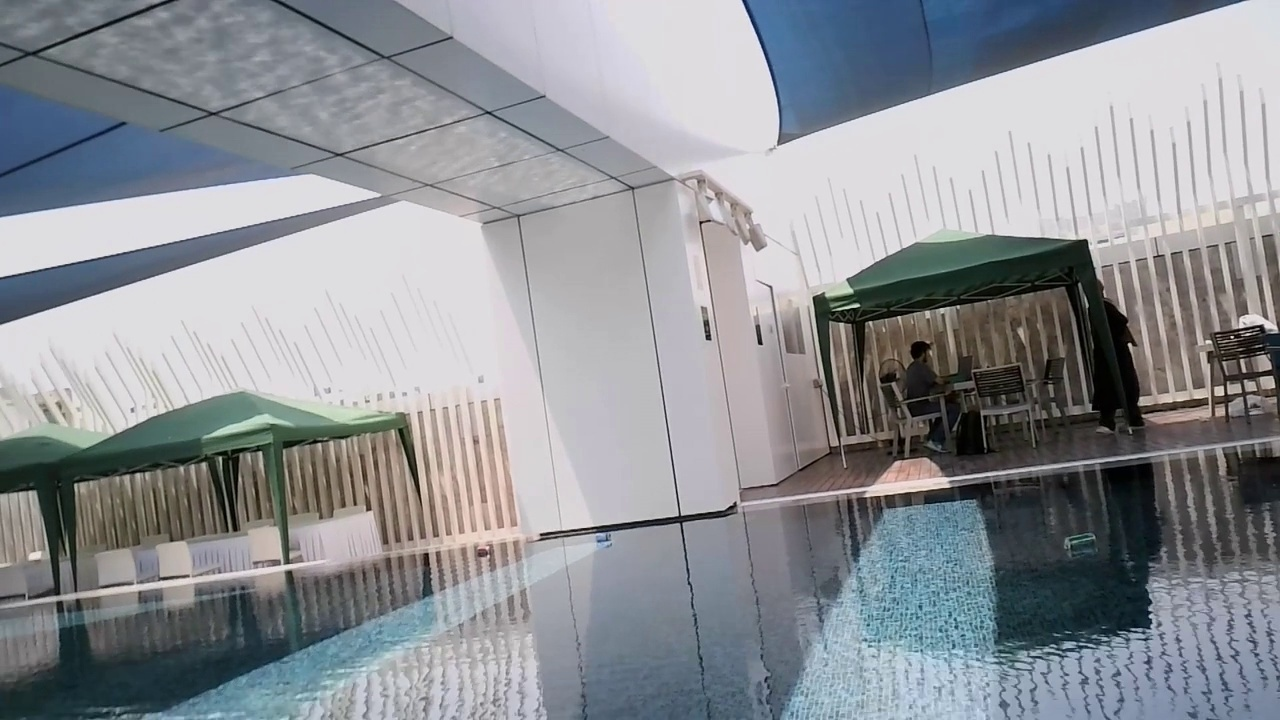debris: (1059, 529, 1102, 562), (591, 529, 615, 547), (470, 542, 496, 558)
